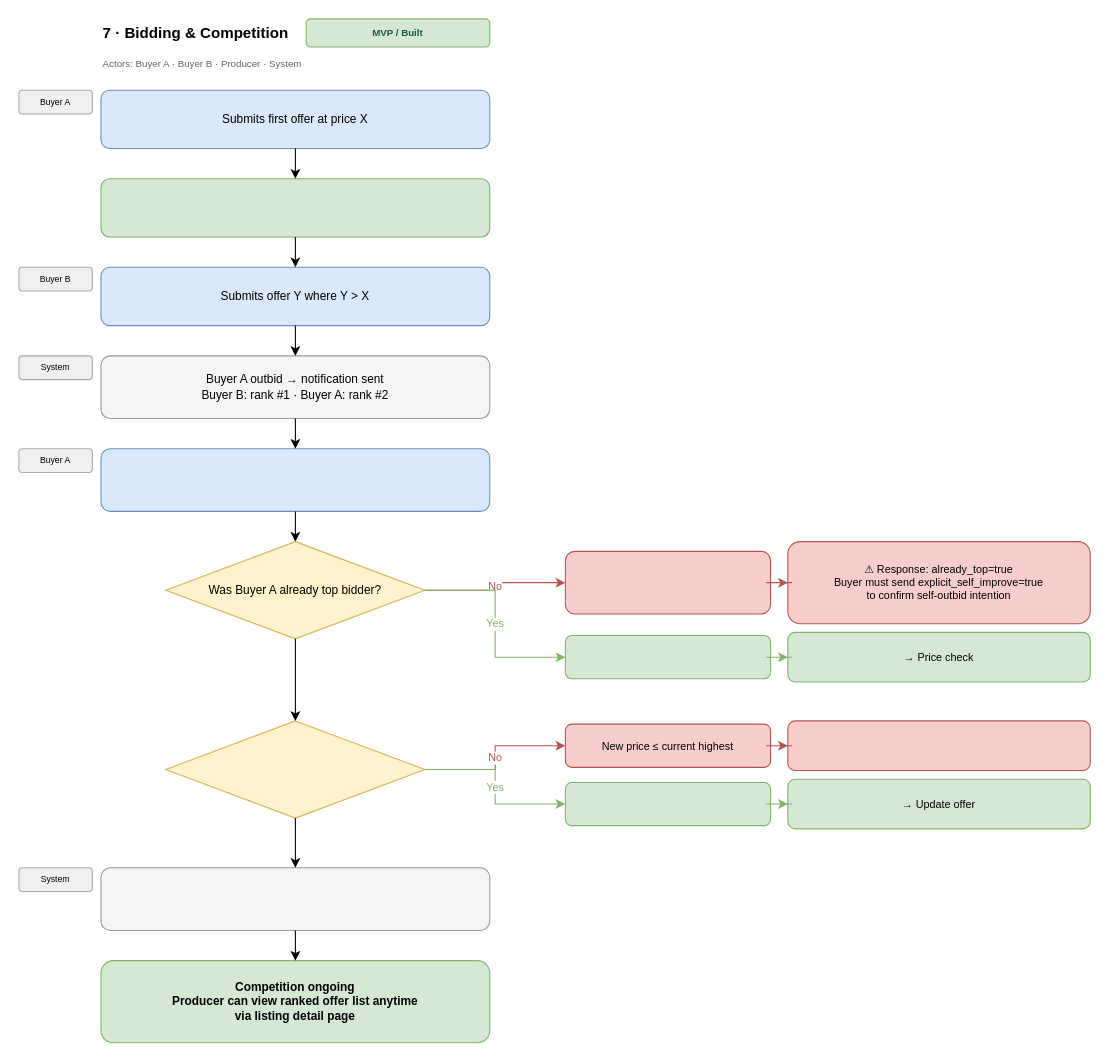
Image size: 1109x1062. Some labels were removed from this diagram. The box of each missing label's shape, as (x1, y1, x2, y2) in pixels:
Buyer A: rank #1 · total offers: 1: (100, 178, 490, 237)
Clicks 'Improve Offer' PUT /listings/:id/offers/mine: (100, 448, 490, 511)
New price > current highest: (564, 781, 771, 826)
New price check: (165, 720, 425, 818)
No (was outbid first): (564, 634, 771, 679)
Offer updated · new rank calculated Outbid notifications sent to affected buyers: (100, 867, 490, 930)
Yes (was #1 before submitting improvement): (564, 550, 771, 614)
❌ 400 PriceTooLow: (787, 720, 1090, 771)
